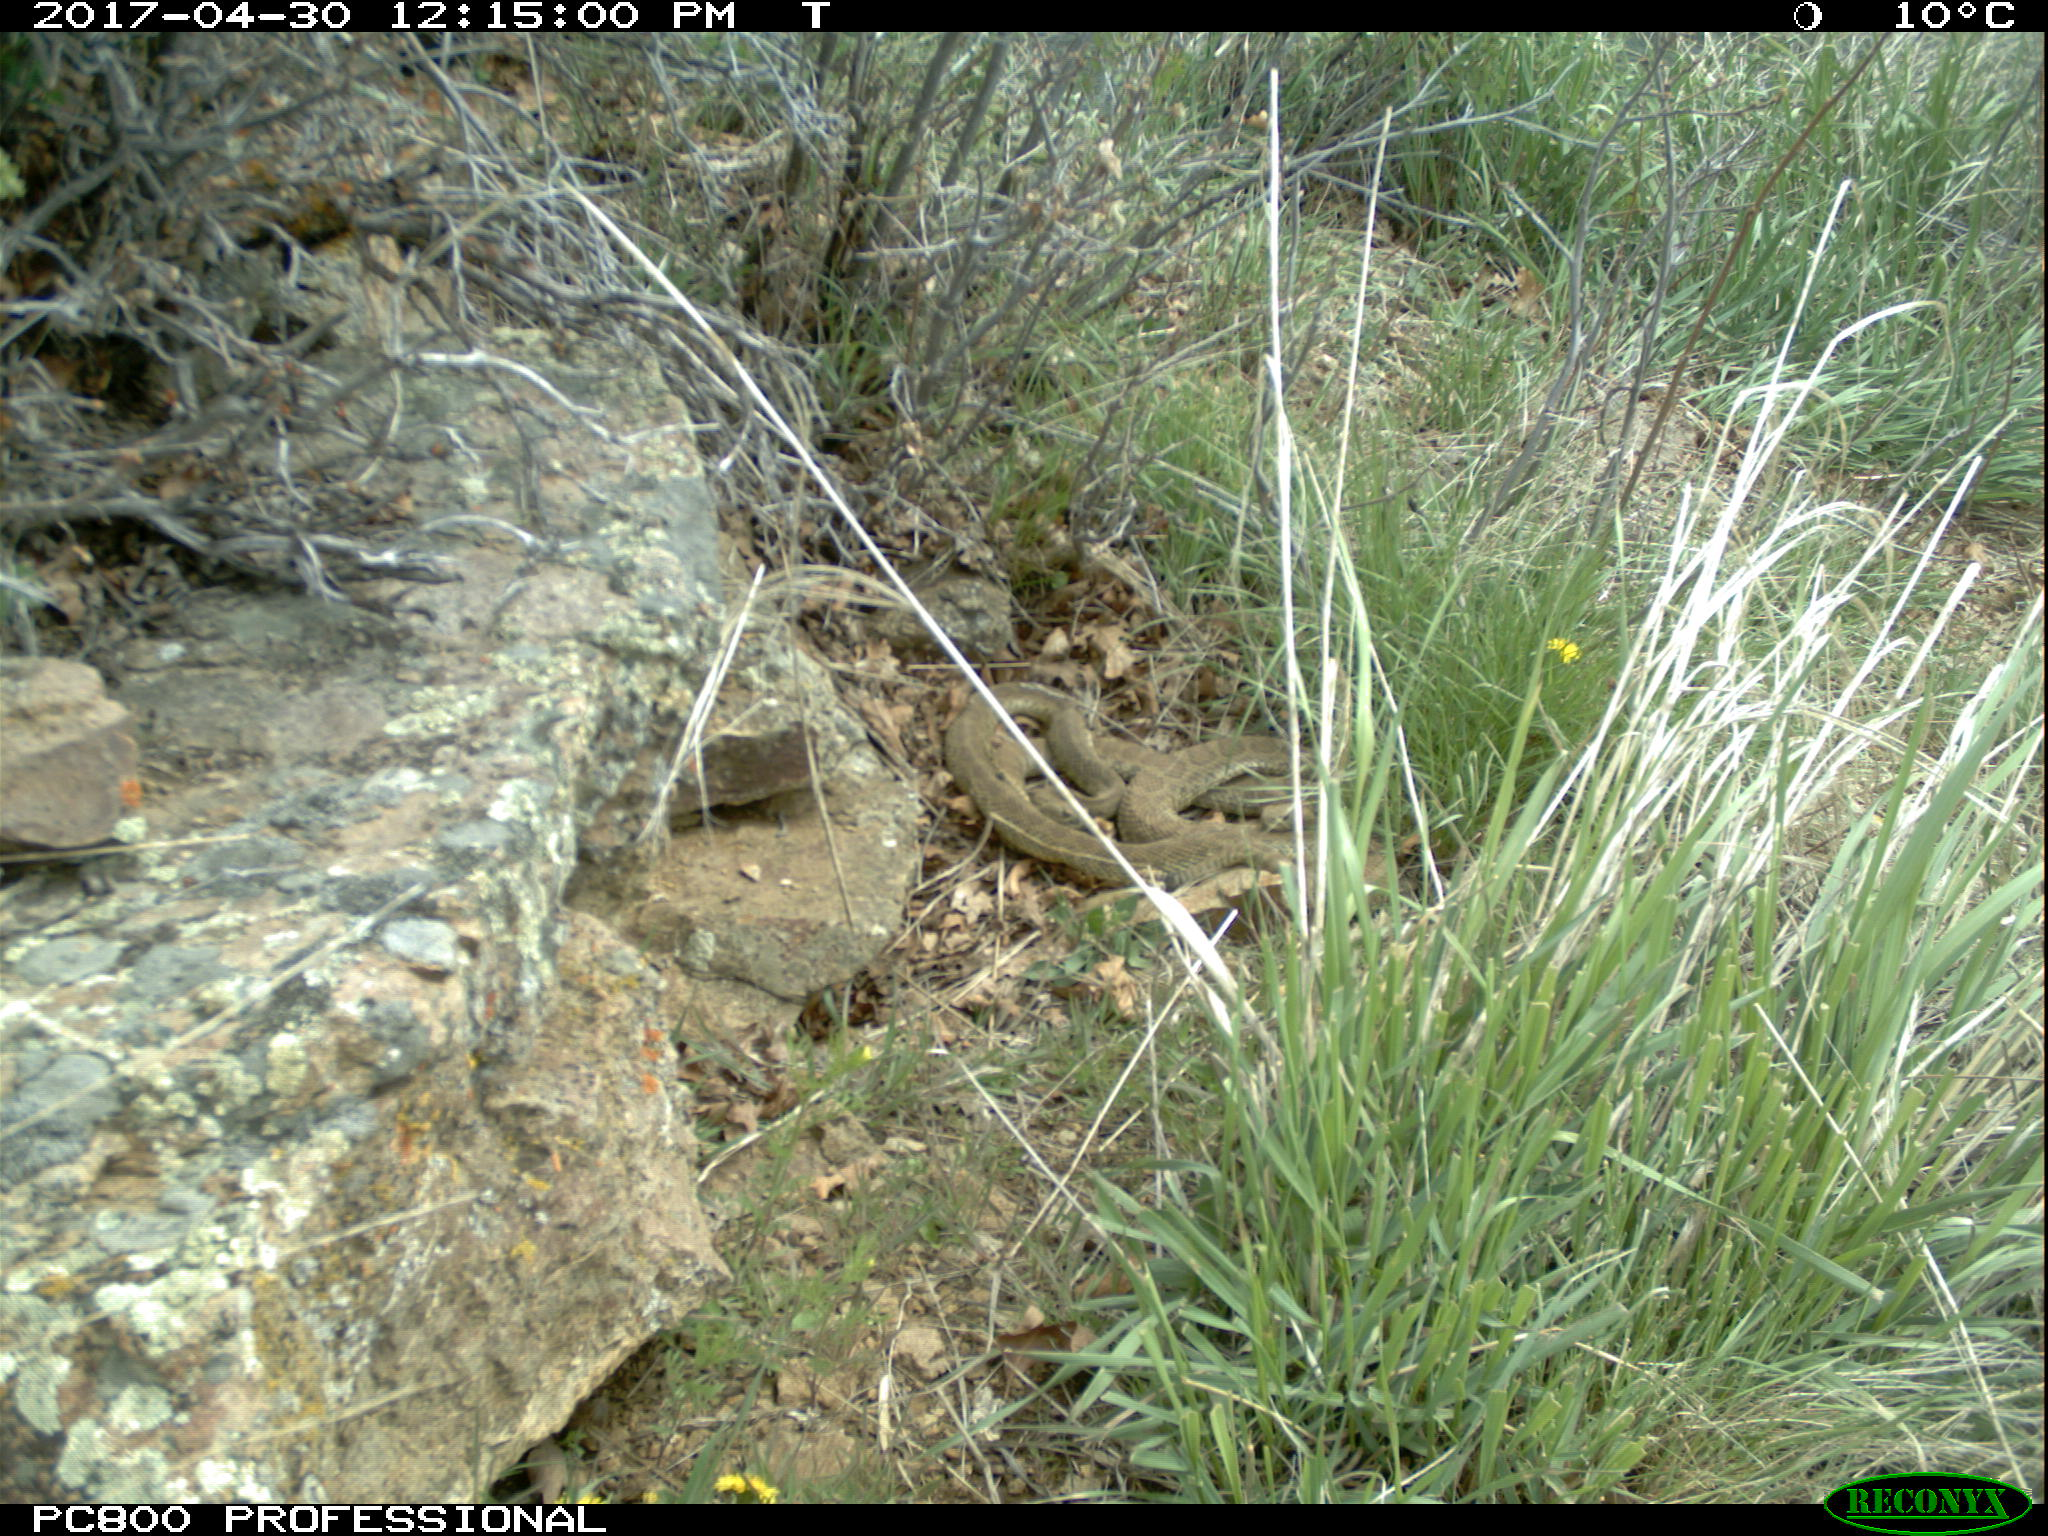snake: (927, 681, 1343, 899)
